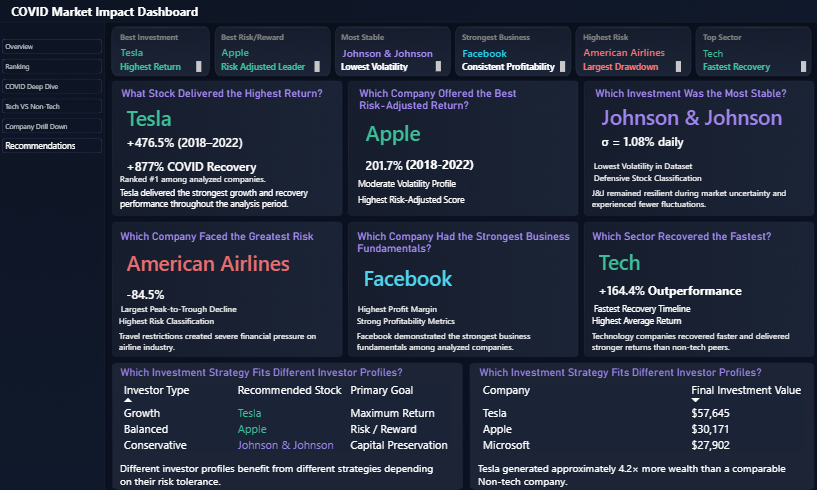

The dashboard page shown, as its layout file describes it:
{"tool":"powerbi","page":{"name":"Recommendations","canvas":[1280,780],"ordinal":5},"visuals":[{"type":"textbox","box":[18,0,304.3,42.2],"z":0},{"type":"pageNavigator","box":[6.3,65.5,156.2,178.7],"z":1000},{"type":"cardVisual","fields":{"Data":["Key_Measures.Best Total Return Company"]},"box":[162,42,194,89],"z":2000},{"type":"textbox","box":[187,41.7,134.6,67.9],"z":3000},{"type":"textbox","box":[186.7,88.5,134.2,90.4],"z":4000},{"type":"cardVisual","fields":{"Data":["Key_Measures.Highest Sharpe Ratio Company"]},"box":[320,42,194,89],"z":5000},{"type":"textbox","box":[345.5,41.7,162,67.9],"z":6000},{"type":"textbox","box":[345.3,88.5,162.4,90.4],"z":7000},{"type":"cardVisual","fields":{"Data":["Key_Measures.Lowest Volatility Company"]},"box":[508,43,204,89],"z":8000},{"type":"textbox","box":[532.5,42.9,164.4,66.7],"z":9000},{"type":"textbox","box":[532,89.5,165.3,75.9],"z":10000},{"type":"cardVisual","fields":{"Data":["Key_Measures.Strongest Business Company"]},"box":[696,43,194,89],"z":11000},{"type":"textbox","box":[720.7,42.9,169.2,66.7],"z":12000},{"type":"textbox","box":[720.7,89.5,169.2,75.9],"z":13000},{"type":"cardVisual","fields":{"Data":["Key_Measures.Worst COVID Drawdown 2020 Footer"]},"box":[884.1,42.8,296.7,89.5],"z":14000},{"type":"textbox","box":[908.9,42.9,160.8,66.7],"z":15000},{"type":"textbox","box":[909.4,89.5,160.5,75.9],"z":16000},{"type":"textbox","box":[1097.1,42.9,169.2,66.7],"z":17000},{"type":"textbox","box":[1097.1,89.5,169.2,75.9],"z":18000},{"type":"textbox","box":[1097.1,65.5,169.2,39.3],"z":19000},{"type":"cardVisual","title":"What Stock Delivered the Highest Return?","fields":{"Data":["Key_Measures.Best Total Return Company","Key_Measures.Best Total Return Footer","Key_Measures.Best COVID Recovery Footer"]},"box":[186.7,140,346.2,156.6],"z":20000},{"type":"textbox","box":[187,264,245,67],"z":21000},{"type":"textbox","box":[187,286,346,67],"z":22000},{"type":"cardVisual","title":"Which Company Offered the Best Risk-Adjusted Return?","fields":{"Data":["Key_Measures.Highest Sharpe Ratio Company","Key_Measures.Total Return"]},"box":[558,140,346,166],"z":23000},{"type":"textbox","box":[558,272,245,67],"z":24000},{"type":"textbox","box":[558,297,346,67],"z":25000},{"type":"textbox","box":[633.2,231.5,250.9,54.5],"z":26000},{"type":"cardVisual","title":"Which Investment Was the Most Stable?","fields":{"Data":["Key_Measures.Lowest Volatility Company","Key_Measures.Lowest Volatility Footer"]},"box":[926,140.1,346.3,123.5],"z":27000},{"type":"textbox","box":[926,243.2,245.1,67.1],"z":28000},{"type":"textbox","box":[926,262.6,346.3,67.1],"z":29000},{"type":"textbox","box":[924.4,285.9,345.5,52.4],"z":30000},{"type":"cardVisual","title":"Which Company Faced the Greatest Risk","fields":{"Data":["Key_Measures.Worst COVID Drawdown 2020 Company","Key_Measures.Worst COVID Drawdown 2020 Value"]},"box":[185.8,363.7,347.2,144.9],"z":31000},{"type":"textbox","box":[188,466.2,245.1,67.1],"z":32000},{"type":"textbox","box":[185.8,485.6,346.3,67.1],"z":33000},{"type":"textbox","box":[186,509,345.3,67.1],"z":34000},{"type":"cardVisual","title":"Which Company Had the Strongest Business Fundamentals?","fields":{"Data":["Key_Measures.Strongest Business Company"]},"box":[555.4,363.8,347.2,121.6],"z":35000},{"type":"textbox","box":[558.3,465.9,245.1,67.1],"z":36000},{"type":"textbox","box":[557.3,485.3,346.3,67.1],"z":37000},{"type":"textbox","box":[557.3,508.7,345.3,67.1],"z":38000},{"type":"cardVisual","title":"Which Sector Recovered the Fastest?","fields":{"Data":["Key_Measures.Top Sector","Key_Measures.COVID Outperformance Value"]},"box":[922.1,363.8,347.2,136.2],"z":39000},{"type":"textbox","box":[926,465.9,245.1,67.1],"z":40000},{"type":"textbox","box":[924,485.3,346.3,67.1],"z":41000},{"type":"textbox","box":[924,508.7,345.3,67.1],"z":42000},{"type":"textbox","box":[1014.5,425,250.9,54.5],"z":43000},{"type":"tableEx","title":"Which Investment Strategy Fits Different Investor Profiles?","fields":{"Values":["Investor Profiles.Investor Type","Investor Profiles.Recommended Stock","Investor Profiles.Primary Goal"]},"box":[185.8,575.8,535,152.7],"z":44000},{"type":"textbox","box":[187.7,712.9,508.7,67.1],"z":45000},{"type":"tableEx","title":"How Would a $10,000 Investment Have Performed?","fields":{"Values":["dimCompany.Company","Key_Measures.Final Investment Value"]},"box":[745,575.8,534.9,152.7],"z":46000},{"type":"textbox","box":[745,712.9,508.7,67.1],"z":47000}]}

Visuals, with their boxes in screenshot pixels (x1, y1, x2, y2), scaled from the page's 1280x780 canvas onto the 817x490 screenshot:
textbox: BBox(11, 0, 206, 27)
pageNavigator: BBox(4, 41, 104, 153)
cardVisual - Key_Measures.Best Total Return Company: BBox(103, 26, 227, 82)
textbox: BBox(119, 26, 205, 69)
textbox: BBox(119, 56, 205, 112)
cardVisual - Key_Measures.Highest Sharpe Ratio Company: BBox(204, 26, 328, 82)
textbox: BBox(221, 26, 324, 69)
textbox: BBox(220, 56, 324, 112)
cardVisual - Key_Measures.Lowest Volatility Company: BBox(324, 27, 454, 83)
textbox: BBox(340, 27, 445, 69)
textbox: BBox(340, 56, 445, 104)
cardVisual - Key_Measures.Strongest Business Company: BBox(444, 27, 568, 83)
textbox: BBox(460, 27, 568, 69)
textbox: BBox(460, 56, 568, 104)
cardVisual - Key_Measures.Worst COVID Drawdown 2020 Footer: BBox(564, 27, 754, 83)
textbox: BBox(580, 27, 683, 69)
textbox: BBox(580, 56, 683, 104)
textbox: BBox(700, 27, 808, 69)
textbox: BBox(700, 56, 808, 104)
textbox: BBox(700, 41, 808, 66)
"What Stock Delivered the Highest Return?" cardVisual: BBox(119, 88, 340, 186)
textbox: BBox(119, 166, 276, 208)
textbox: BBox(119, 180, 340, 222)
"Which Company Offered the Best Risk-Adjusted Return?" cardVisual: BBox(356, 88, 577, 192)
textbox: BBox(356, 171, 513, 213)
textbox: BBox(356, 187, 577, 229)
textbox: BBox(404, 145, 564, 180)
"Which Investment Was the Most Stable?" cardVisual: BBox(591, 88, 812, 166)
textbox: BBox(591, 153, 747, 195)
textbox: BBox(591, 165, 812, 207)
textbox: BBox(590, 180, 811, 213)
"Which Company Faced the Greatest Risk" cardVisual: BBox(119, 228, 340, 320)
textbox: BBox(120, 293, 276, 335)
textbox: BBox(119, 305, 340, 347)
textbox: BBox(119, 320, 339, 362)
"Which Company Had the Strongest Business Fundamentals?" cardVisual: BBox(355, 229, 576, 305)
textbox: BBox(356, 293, 513, 335)
textbox: BBox(356, 305, 577, 347)
textbox: BBox(356, 320, 576, 362)
"Which Sector Recovered the Fastest?" cardVisual: BBox(589, 229, 810, 314)
textbox: BBox(591, 293, 747, 335)
textbox: BBox(590, 305, 811, 347)
textbox: BBox(590, 320, 810, 362)
textbox: BBox(648, 267, 808, 301)
"Which Investment Strategy Fits Different Investor Profiles?" tableEx: BBox(119, 362, 460, 458)
textbox: BBox(120, 448, 444, 489)
"How Would a $10,000 Investment Have Performed?" tableEx: BBox(476, 362, 816, 458)
textbox: BBox(476, 448, 800, 489)
